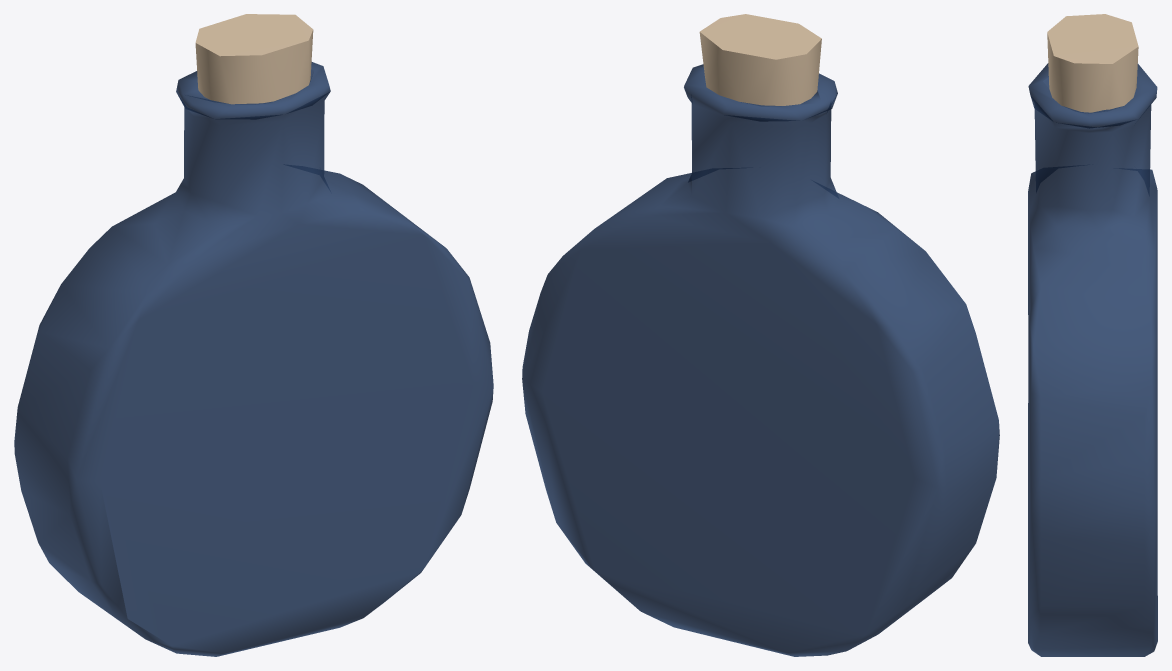
Rendered from 169892d0-c7c1-4aaa-a615-29fedfcb482c.glb.
3 renders of one model, left to right at view 1: azimuth 30°, elevation 25°; view 2: azimuth 150°, elevation 25°; view 3: azimuth 270°, elevation 25°, orthographic.
Visible parts, largest first — view 1: GlassBottle.007; view 2: GlassBottle.007; view 3: GlassBottle.007.
Boxes of the visible parts, x1=… form: GlassBottle.007: x1=14, y1=14, x2=493, y2=656; GlassBottle.007: x1=522, y1=14, x2=999, y2=656; GlassBottle.007: x1=1028, y1=14, x2=1157, y2=656.
Size of the model in its own units: 0.2316 by 0.3056 by 0.0618.
Materials: 2 (2 with a texture image).
